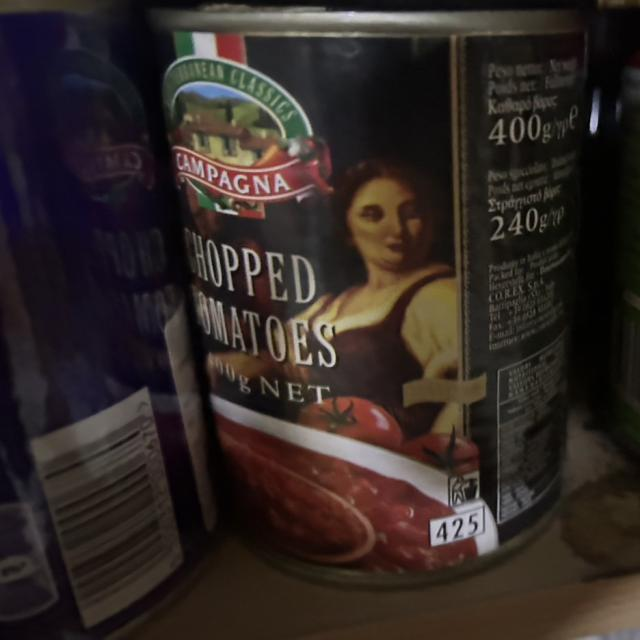can: (104, 0, 640, 613)
